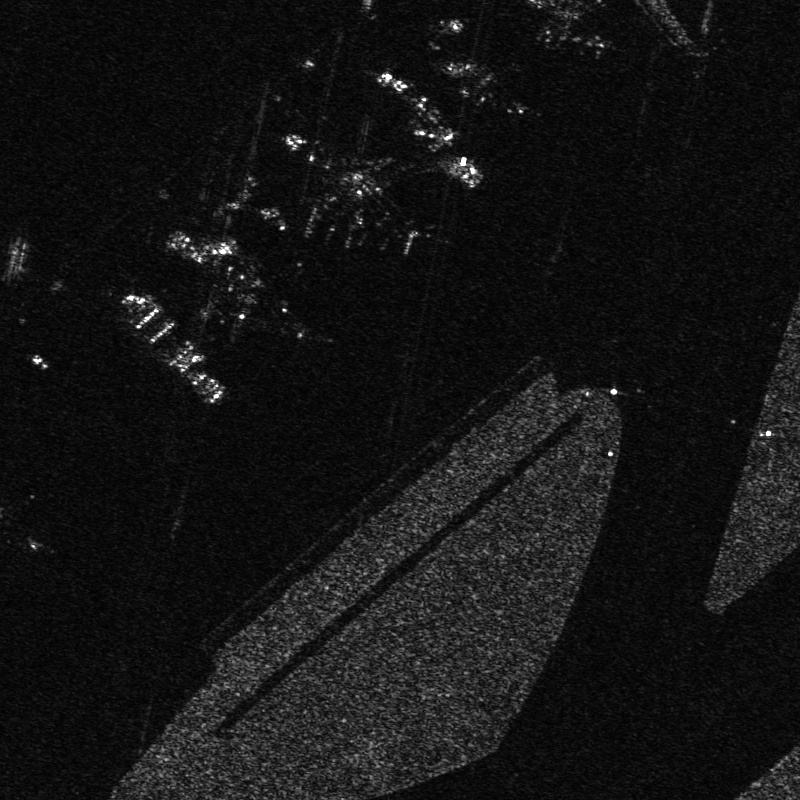Boeing737: (448, 52, 532, 122)
other: (181, 228, 334, 349), (287, 133, 439, 253)
